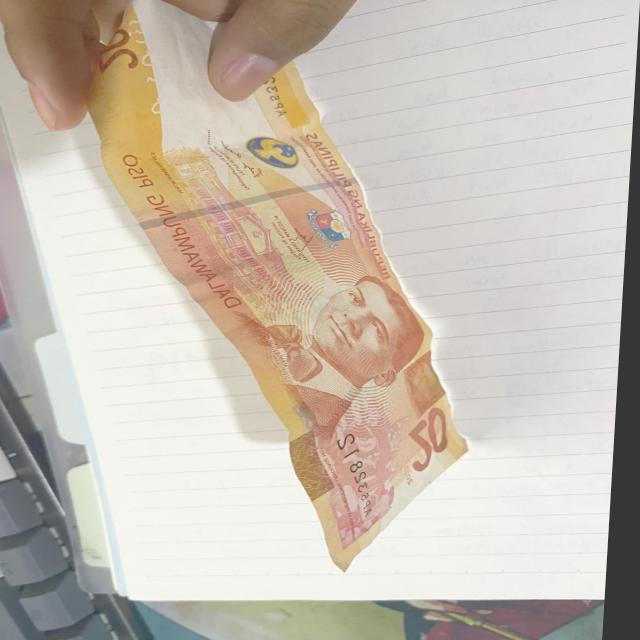security_thread: (141, 167, 364, 237)
see_through_mark: (125, 17, 174, 124)
serial_number: (336, 424, 389, 530)
value: (402, 411, 461, 484)
watermark: (168, 27, 266, 141)
